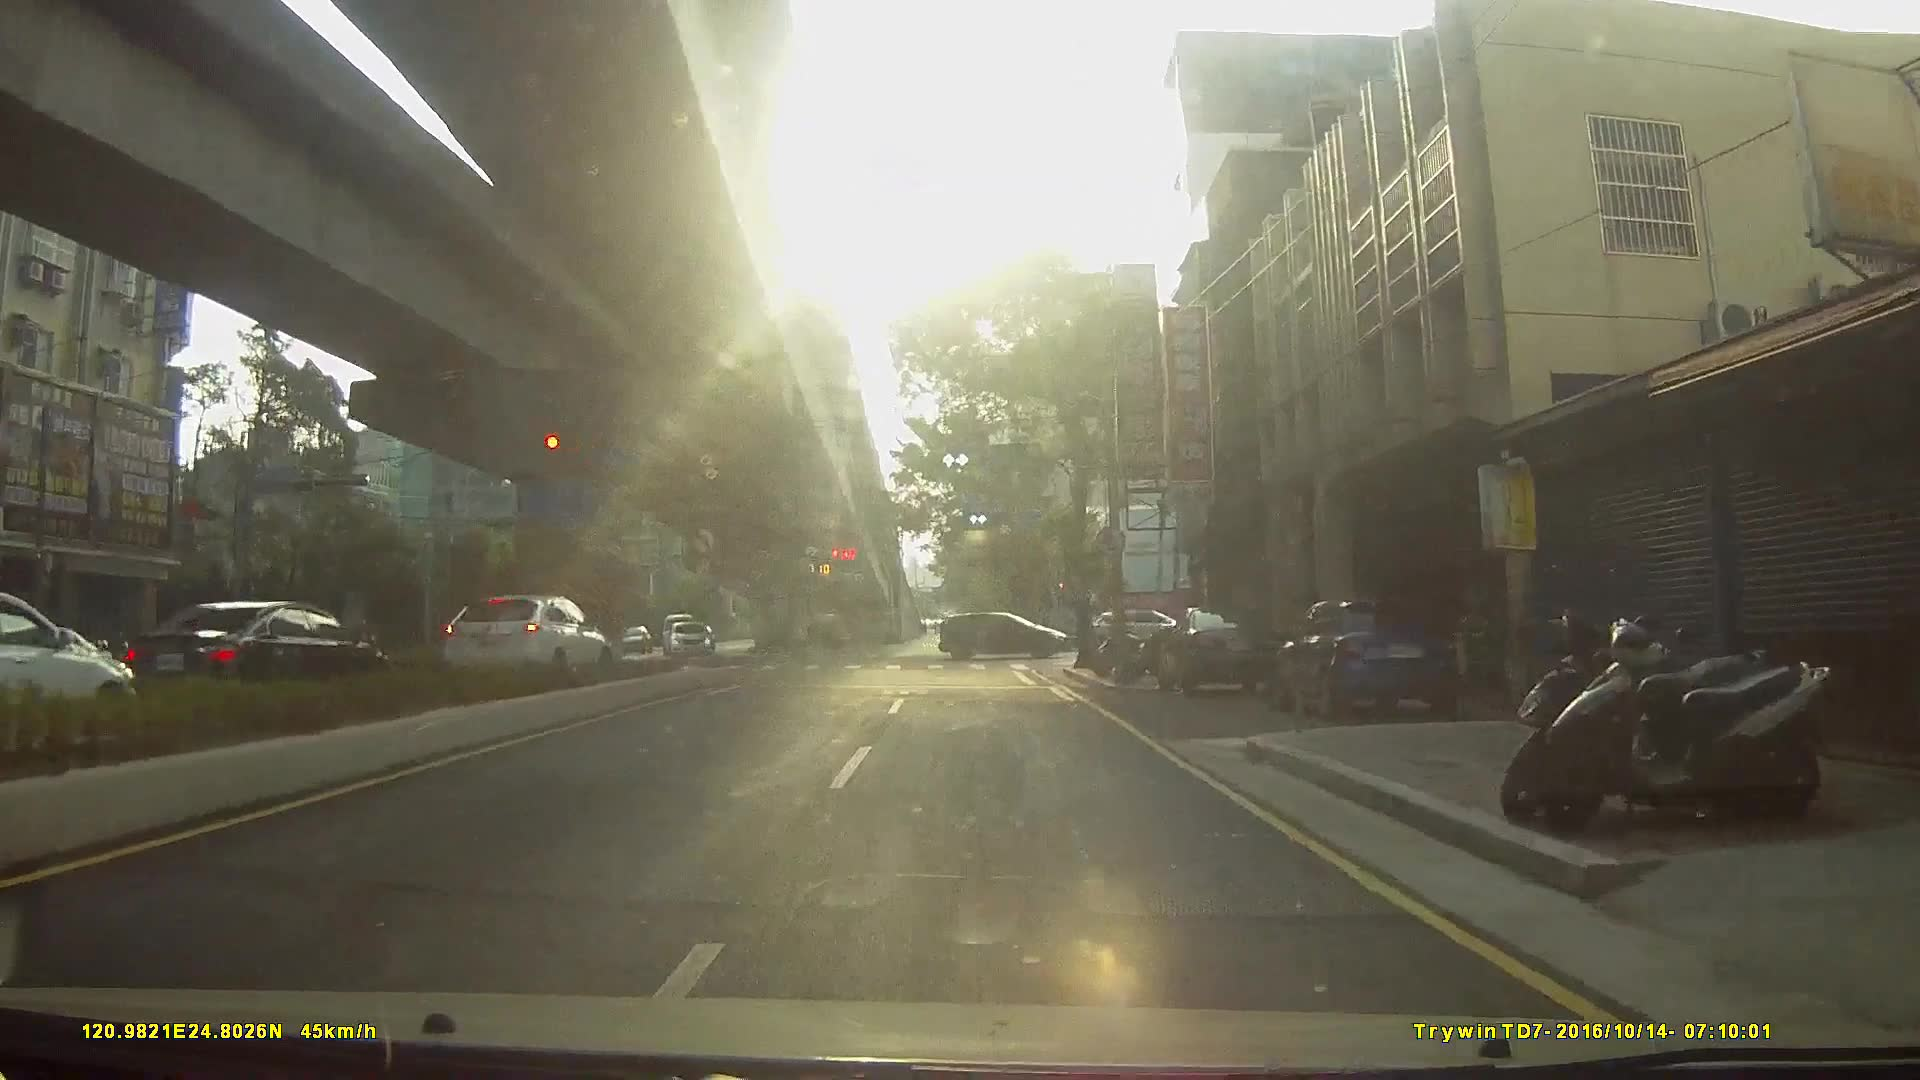vehicle: (102, 595, 386, 705), (1276, 600, 1473, 731), (1, 583, 145, 741), (429, 593, 604, 684), (1156, 607, 1287, 702), (940, 613, 1072, 665), (663, 622, 711, 663), (608, 626, 650, 655)
